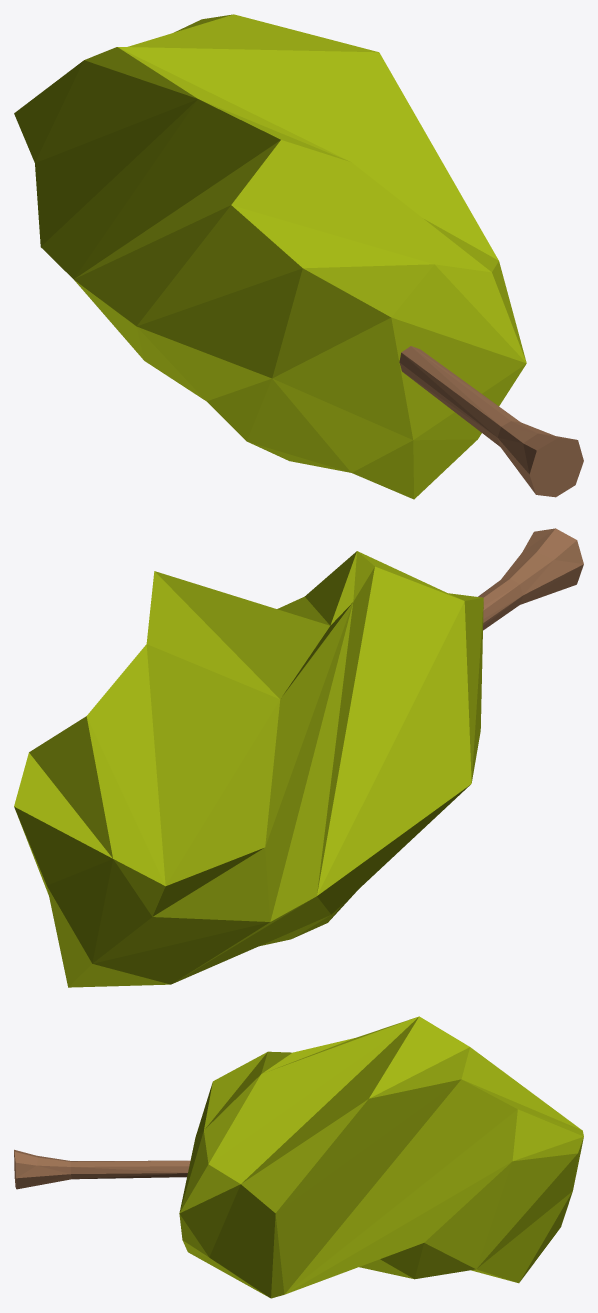
Rendered from tree02a.fbx.
3 renders of one model, top to bottom at view 1: azimuth 30°, elevation 25°; view 2: azimuth 150°, elevation 25°; view 3: azimuth 270°, elevation 25°, orthographic. The views are drawn at different scales.
Parts seen in each view (by area): view 1: Tree; view 2: Tree; view 3: Tree.
Part boxes in pixels (<box>): Tree: <box>14,14,583,499</box>; Tree: <box>14,528,583,987</box>; Tree: <box>14,1016,583,1298</box>.
Bounding box in the file's own units: 2.19 × 2.35 × 5.52.
